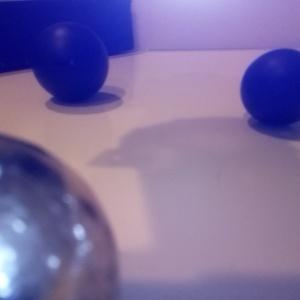alive_ball: (1, 132, 121, 300)
dead_ball: (31, 21, 109, 101), (240, 49, 300, 126)
